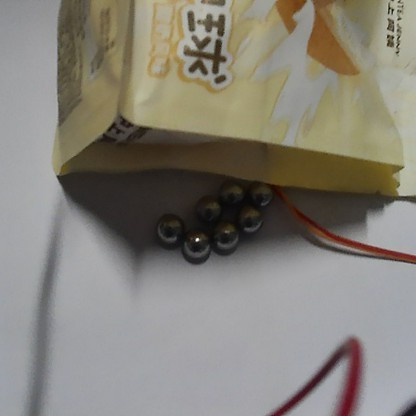ironball: (155, 213, 183, 243), (182, 228, 209, 257), (219, 181, 244, 208), (211, 223, 237, 248), (195, 196, 220, 221), (239, 207, 261, 232), (249, 180, 271, 203)
